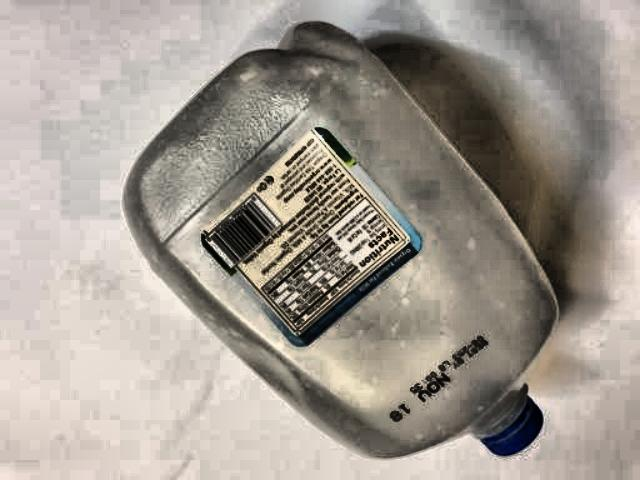Plastic: (116, 11, 603, 479)
